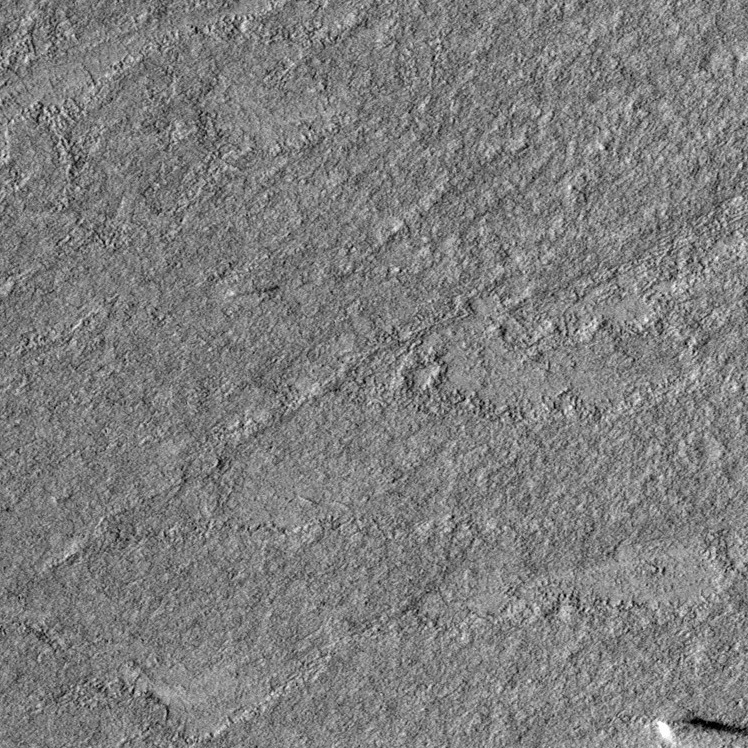dust_devil: (652, 711, 748, 748)
